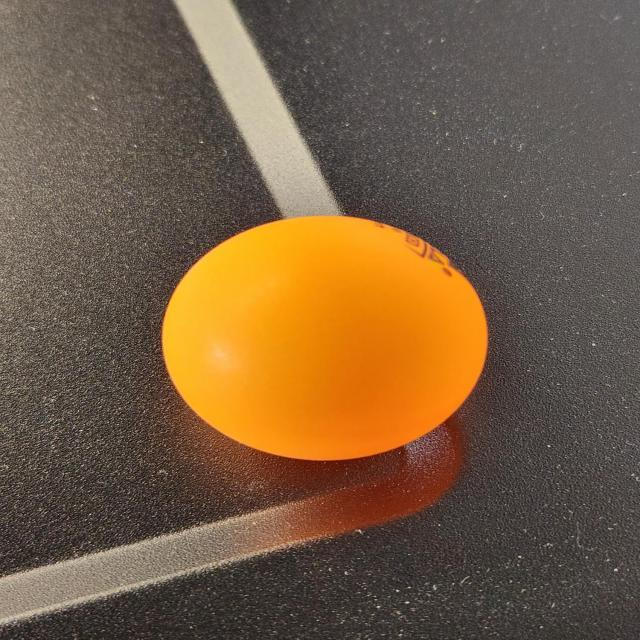oball: (154, 210, 506, 468)
